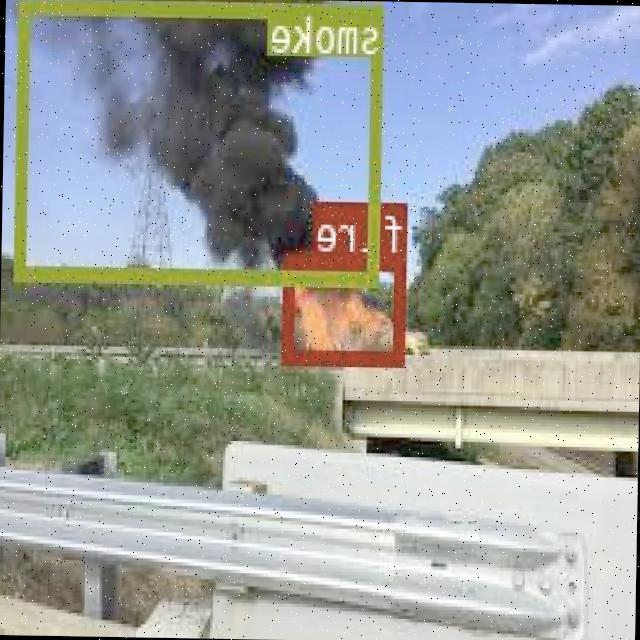fire: (284, 252, 408, 362)
smoke: (16, 0, 385, 283)
